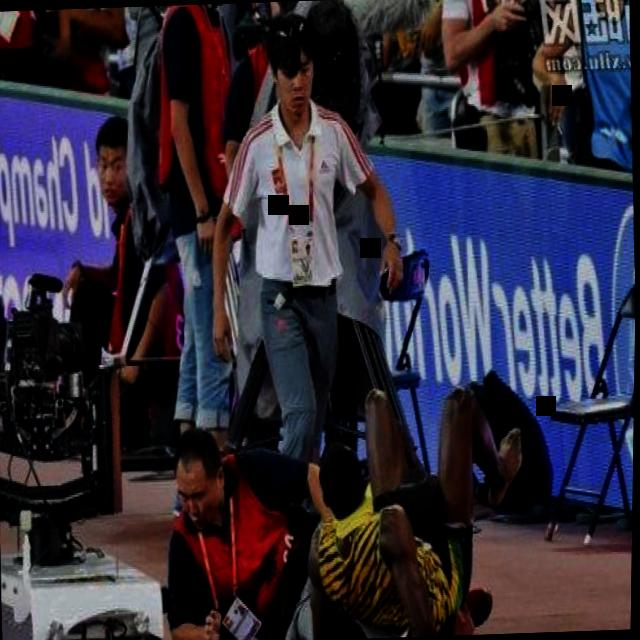Fall-Detected: (338, 356, 536, 639)
